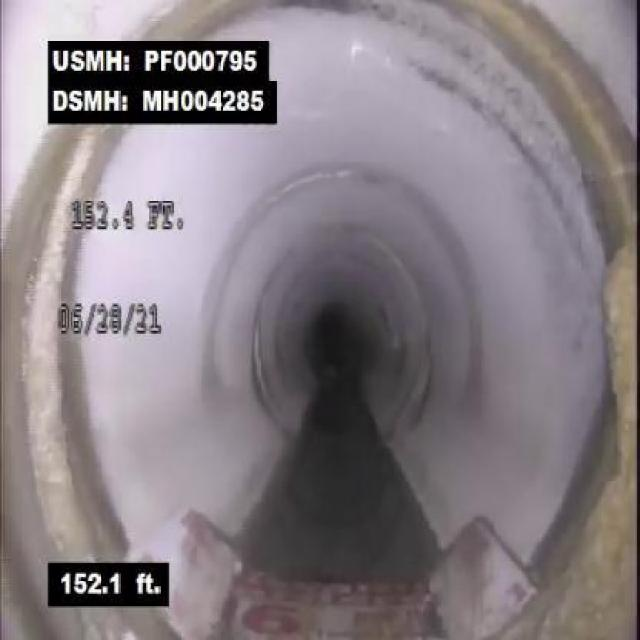Joint offset: (17, 134, 105, 561)
